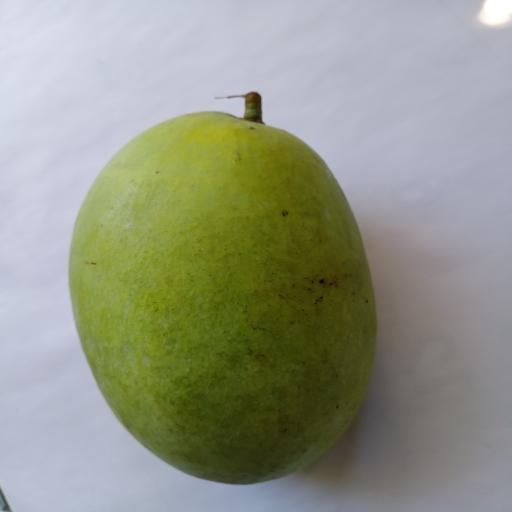mango-unripe: (61, 74, 387, 494)
